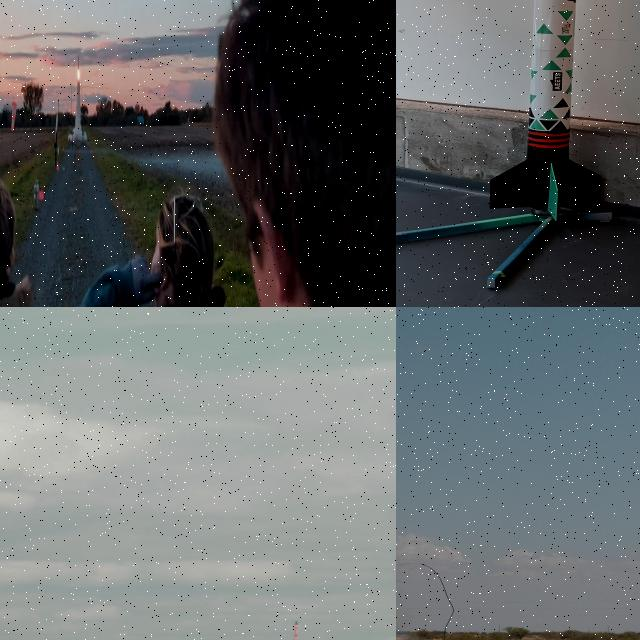Rocket: (489, 0, 601, 221), (291, 618, 301, 640), (78, 53, 80, 71)
